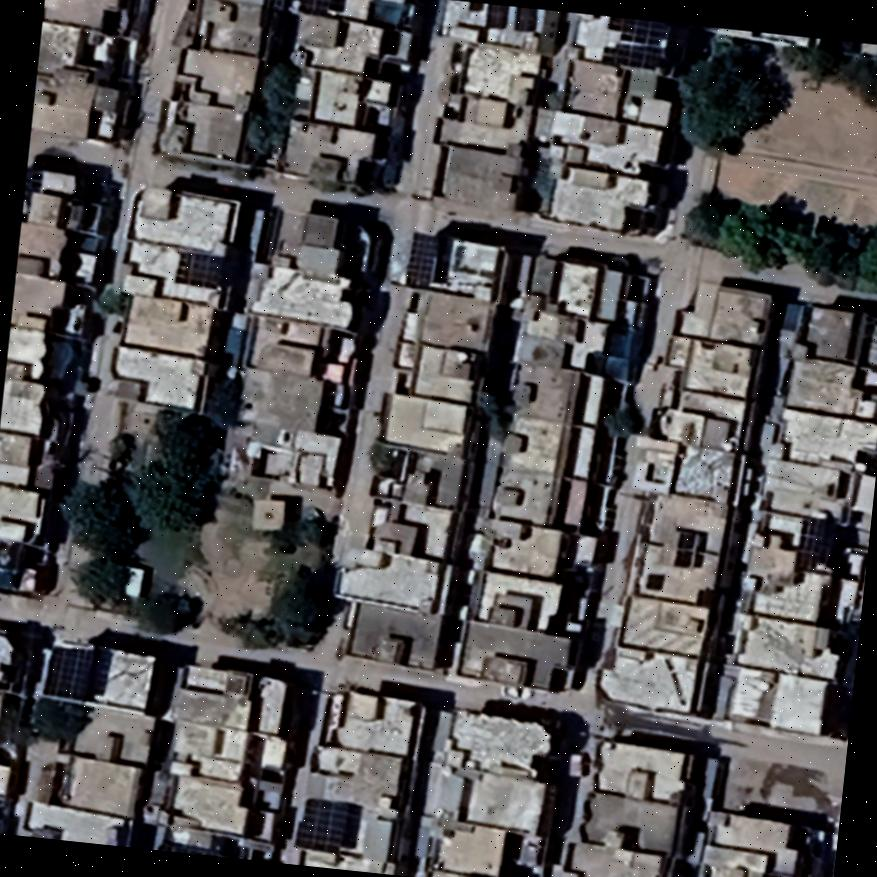Solarpanel: (594, 18, 672, 74), (294, 793, 356, 851), (37, 645, 95, 704), (401, 233, 442, 293), (791, 513, 831, 574), (171, 248, 228, 287), (298, 0, 339, 13)
